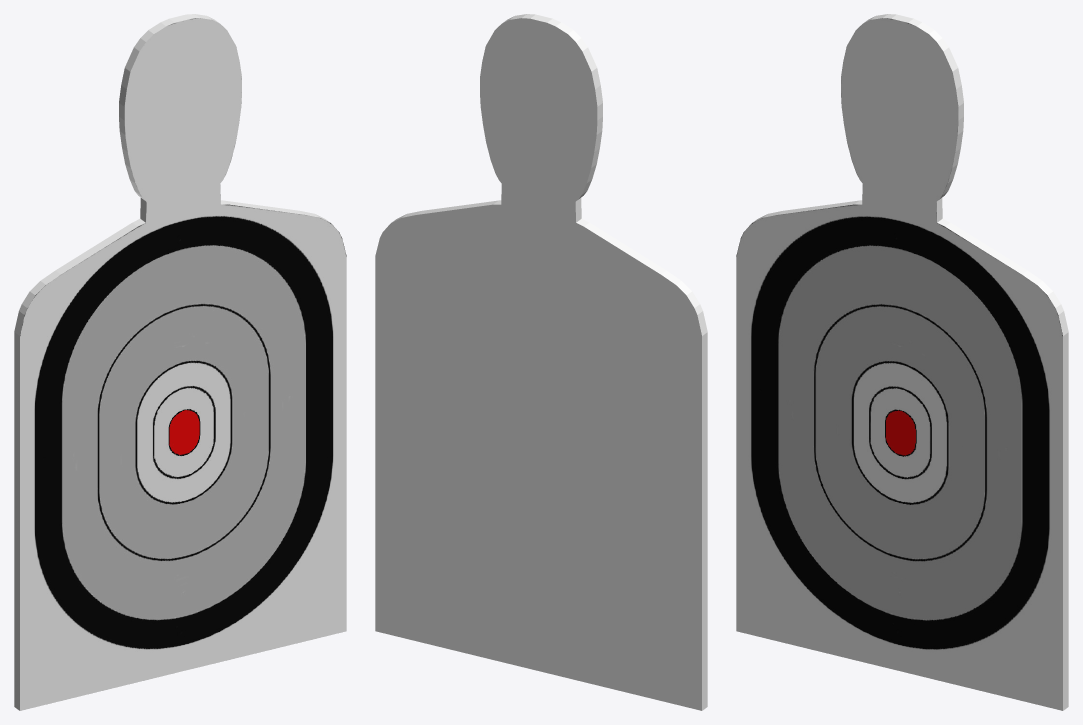
File: target.fbx
3 renders of one model, left to right at view 1: azimuth 30°, elevation 25°; view 2: azimuth 150°, elevation 25°; view 3: azimuth 330°, elevation 25°, orthographic.
Visible parts, largest first — view 1: Model; view 2: Model; view 3: Model.
Part boxes in pixels (x1,y1,x2,y2): Model: (14, 14, 346, 710); Model: (375, 14, 707, 710); Model: (736, 14, 1068, 710).
Bounding box in the file's own units: 100 × 190 × 3.
